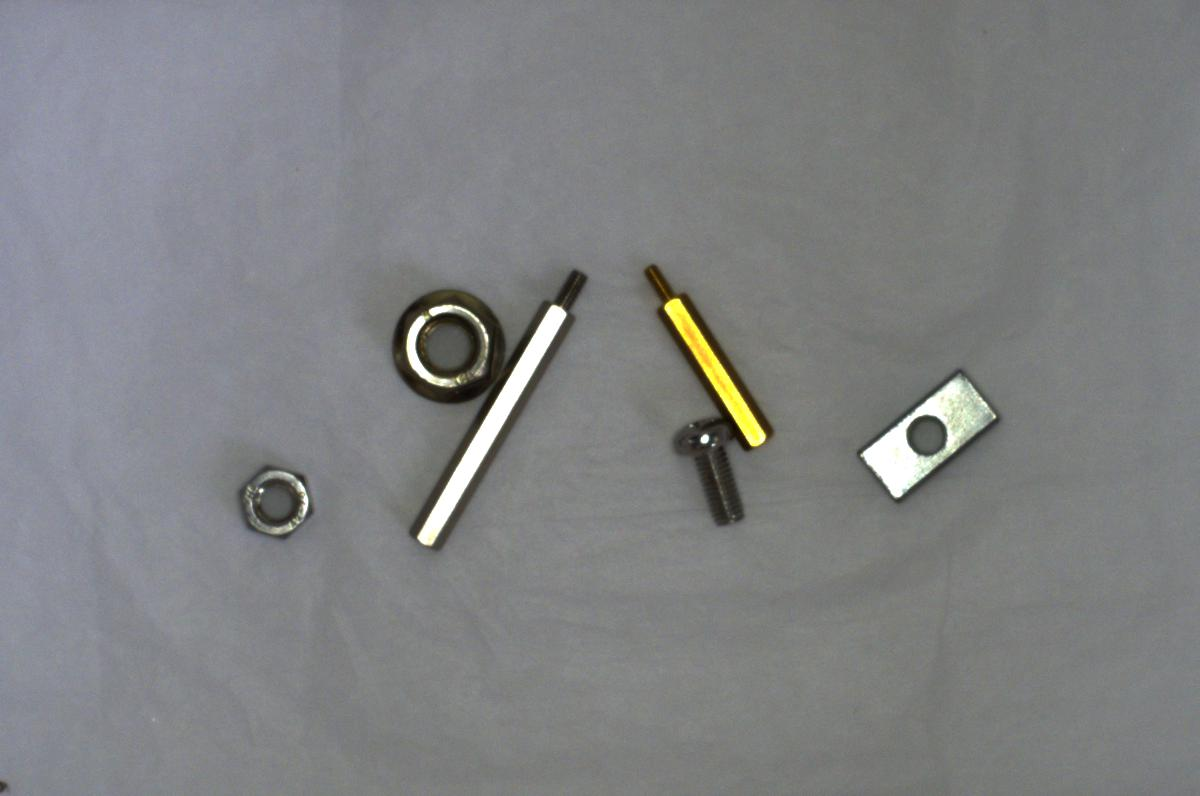Flange nut: (387, 282, 512, 406)
Hexagon nut: (232, 461, 322, 543)
Hexagon pillar: (640, 258, 779, 453)
Hexagonal steel column: (404, 261, 593, 549)
Rectangular nut: (846, 362, 1002, 513)
Round head screw: (666, 409, 753, 536)
